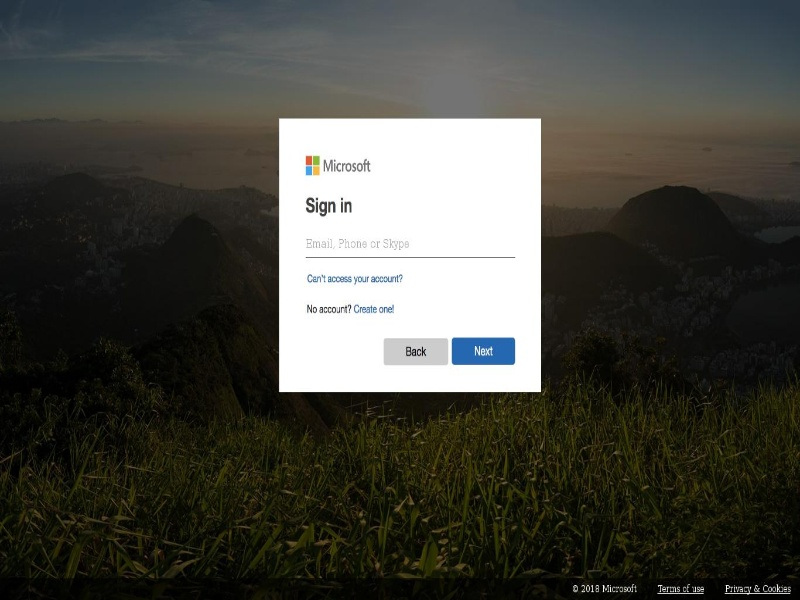msft: (299, 147, 390, 182)
